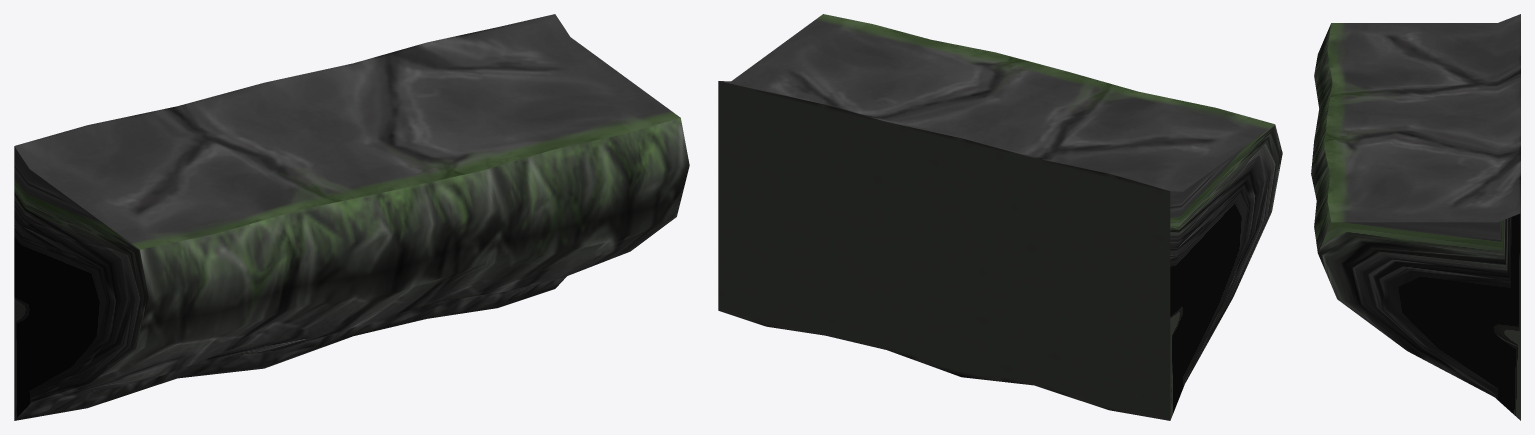
File: cliff_middle.FBX
3 renders of one model, left to right at view 1: azimuth 30°, elevation 25°; view 2: azimuth 150°, elevation 25°; view 3: azimuth 270°, elevation 25°, orthographic. The views are drawn at different scales.
Parts seen in each view (by area): view 1: cliff_middle; view 2: cliff_middle; view 3: cliff_middle.
Boxes of the visible parts, x1,y1,x2,y2 form: cliff_middle: (14, 14, 689, 420); cliff_middle: (718, 14, 1282, 420); cliff_middle: (1311, 14, 1520, 420).
Size of the model in its own units: 51.52 by 26.08 by 22.91.
1 material, 1 textured.
